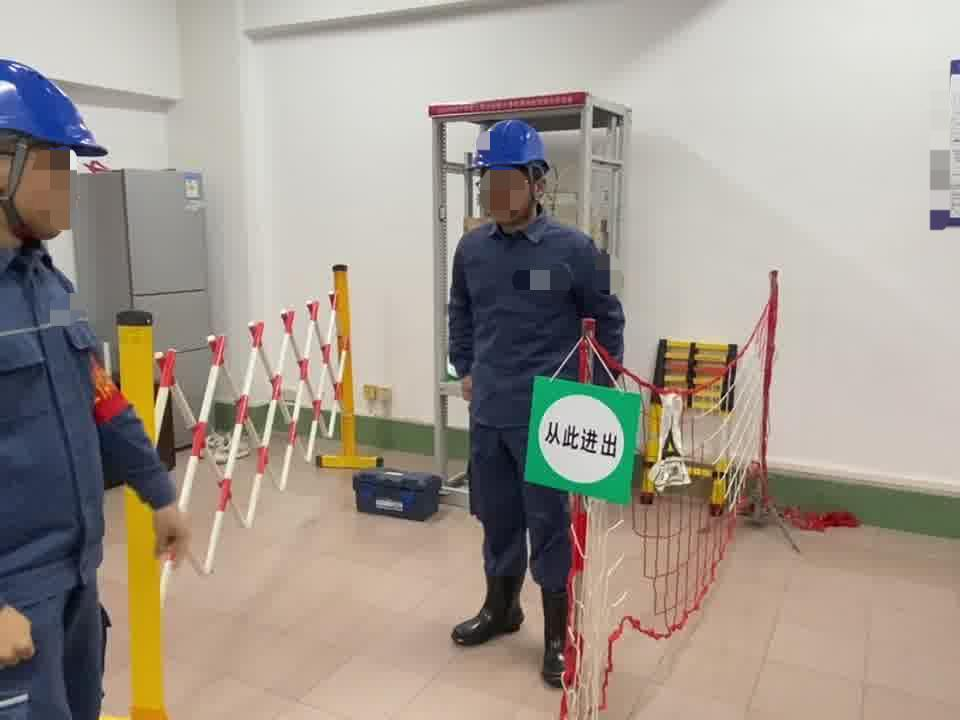halt: (3, 59, 110, 248), (471, 120, 557, 230)
inear: (3, 140, 36, 214)
